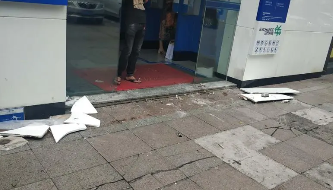garbage: (1, 118, 51, 149), (237, 81, 300, 100), (62, 108, 106, 132), (35, 120, 91, 138), (235, 91, 296, 105), (68, 93, 102, 114)
